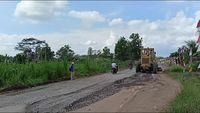Pothole: (65, 72, 190, 113), (0, 80, 73, 95)
